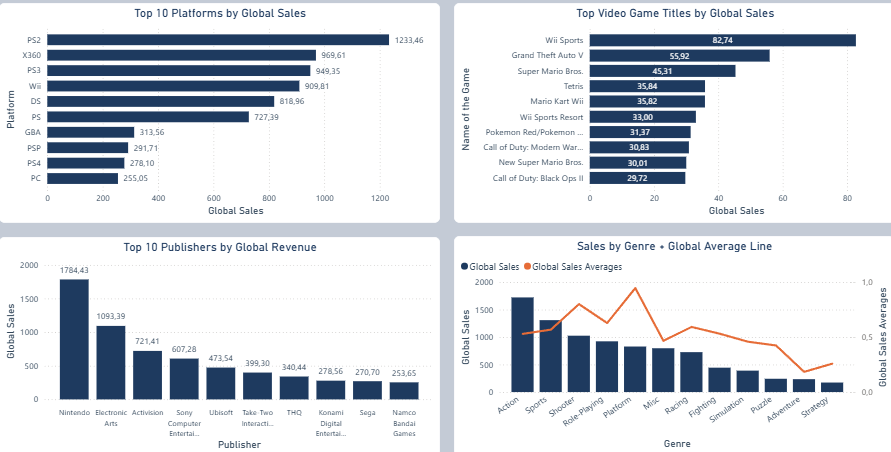

This screenshot's page, from the dashboard's own definition file:
{"tool":"powerbi","page":{"name":"Worldwide Insights","canvas":[1280,720],"ordinal":1},"visuals":[{"type":"clusteredColumnChart","title":"Top 10 Publishers by Global Revenue","fields":{"Category":["video_game_sales vgsales.publisher"],"Y":["Sum(video_game_sales vgsales.global_sales)"]},"box":[12,392.9,618.4,313.7],"z":0},{"type":"clusteredBarChart","title":"Top 10 Platforms by Global Sales","fields":{"Y":["Sum(video_game_sales vgsales.global_sales)"],"Category":["video_game_sales vgsales.platform"]},"box":[12,67.2,618.4,313.7],"z":1000},{"type":"clusteredBarChart","title":"Top Video Game Titles by Global Sales","fields":{"Category":["video_game_sales vgsales.name"],"Y":["Sum(video_game_sales vgsales.global_sales)"]},"box":[649.8,67.2,616.9,313.7],"z":2000},{"type":"lineClusteredColumnComboChart","title":"Sales by Genre + Global Average Line","fields":{"Category":["video_game_sales vgsales.genre"],"Y":["Sum(video_game_sales vgsales.global_sales)"],"Y2":["Avg(video_game_sales vgsales.global_sales)"]},"box":[649.8,392.9,616.9,313.7],"z":3000},{"type":"slicer","title":"Platform","fields":{"Values":["video_game_sales vgsales.platform"]},"box":[688.6,0,179.3,67.2],"z":4000},{"type":"slicer","fields":{"Values":["video_game_sales vgsales.year"]},"box":[403.3,0,183.7,67.2],"z":5000}]}

Visuals, with their boxes on the page's 1280x720 design canvas (x1, y1, x2, y2). These are canvas units, not pixel positions in the 891x452 screenshot, which may show the page scaled, cropped or inside an application window:
"Top 10 Publishers by Global Revenue" clusteredColumnChart: rect(12, 393, 630, 707)
"Top 10 Platforms by Global Sales" clusteredBarChart: rect(12, 67, 630, 381)
"Top Video Game Titles by Global Sales" clusteredBarChart: rect(650, 67, 1267, 381)
"Sales by Genre + Global Average Line" lineClusteredColumnComboChart: rect(650, 393, 1267, 707)
"Platform" slicer: rect(689, 0, 868, 67)
slicer - video_game_sales vgsales.year: rect(403, 0, 587, 67)
